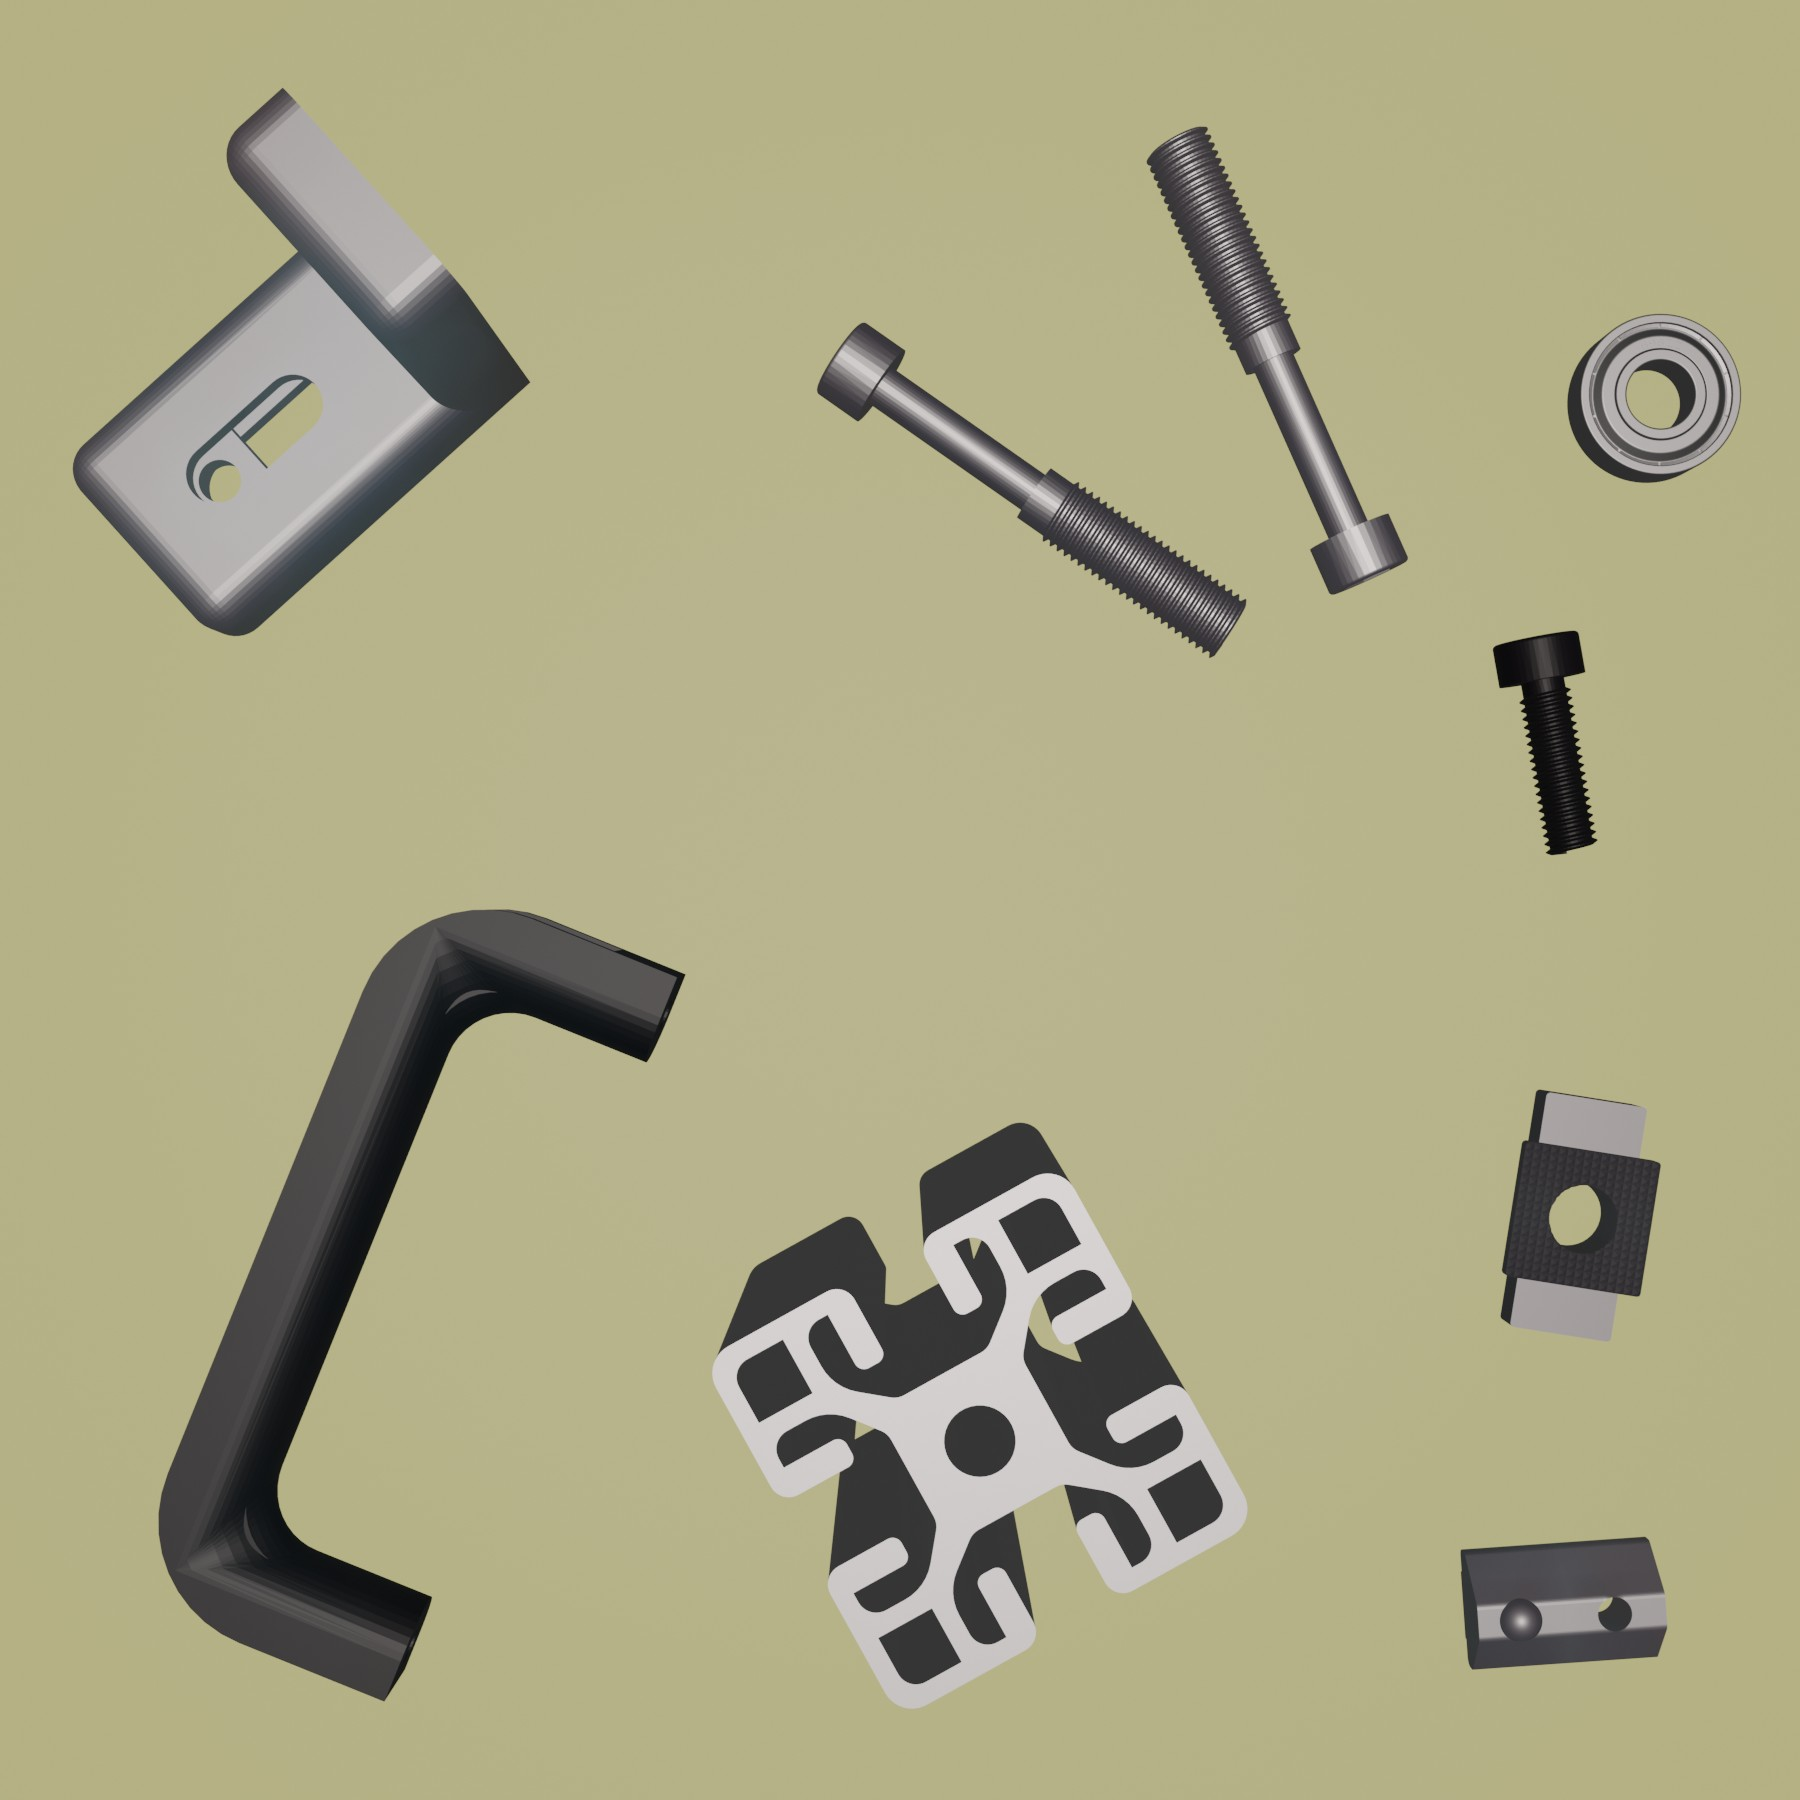Aluminium Extension: (710, 1118, 1253, 1714)
Ball Bearing: (1563, 308, 1746, 486)
Multiwinkel: (73, 81, 532, 640)
Pull Handle: (155, 903, 686, 1704)
Shoulder Socket Head Cap Screw: (813, 318, 1248, 659), (1142, 124, 1409, 597)
Socket Head Cap Screw: (1488, 626, 1601, 862)
T Nut Square: (1493, 1085, 1663, 1345)
T Spring Nut: (1455, 1535, 1671, 1675)
